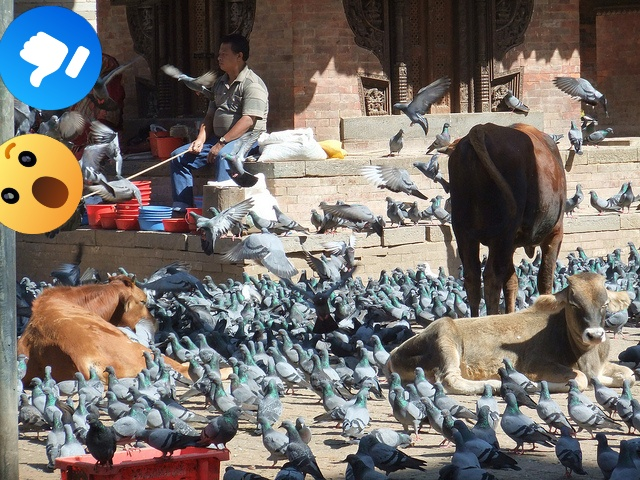like: (0, 6, 102, 110)
wow: (0, 134, 83, 234)
